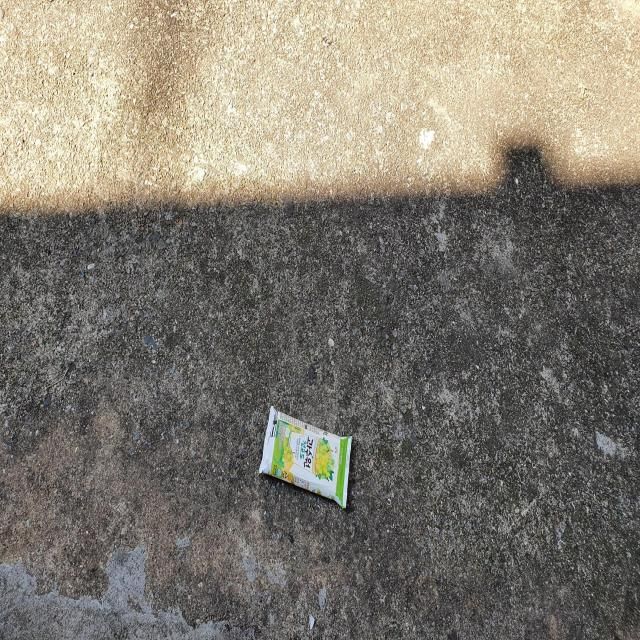paperpack: (259, 406, 352, 508)
